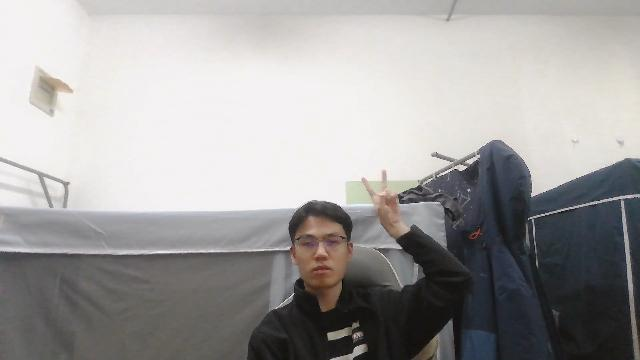yes: (357, 166, 406, 233)
